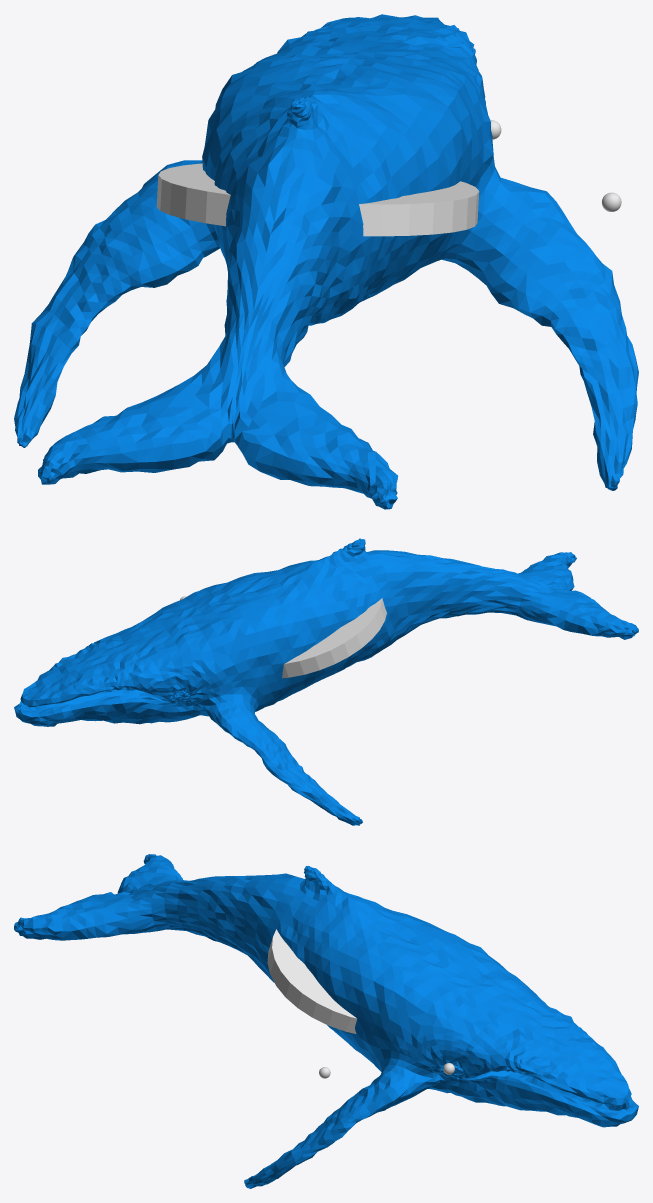
Rendered from Stylized Humpback Whale2.fbx.
3 views of the same model, one above another, from view 1: azimuth 30°, elevation 25°; view 2: azimuth 150°, elevation 25°; view 3: azimuth 270°, elevation 25° (orthographic). The views are drawn at different scales.
Parts seen in each view (by area): view 1: Whale, Galaxy; view 2: Whale, Galaxy; view 3: Whale, Galaxy.
Boxes of the visible parts, left/top/right/bottom form: Whale: left=14, top=14, right=638, bottom=509; Galaxy: left=156, top=163, right=479, bottom=236; Whale: left=14, top=538, right=638, bottom=825; Galaxy: left=282, top=598, right=386, bottom=678; Whale: left=14, top=854, right=638, bottom=1188; Galaxy: left=267, top=929, right=356, bottom=1033.
Size of the model in its own units: 2400 by 1191 by 2741.
